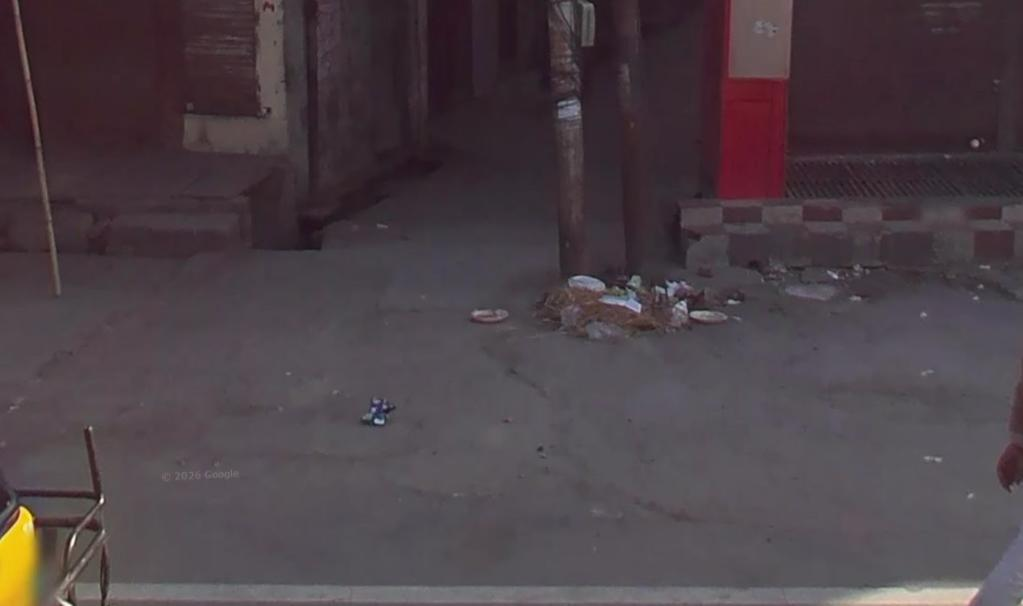garbage: (357, 391, 400, 434)
